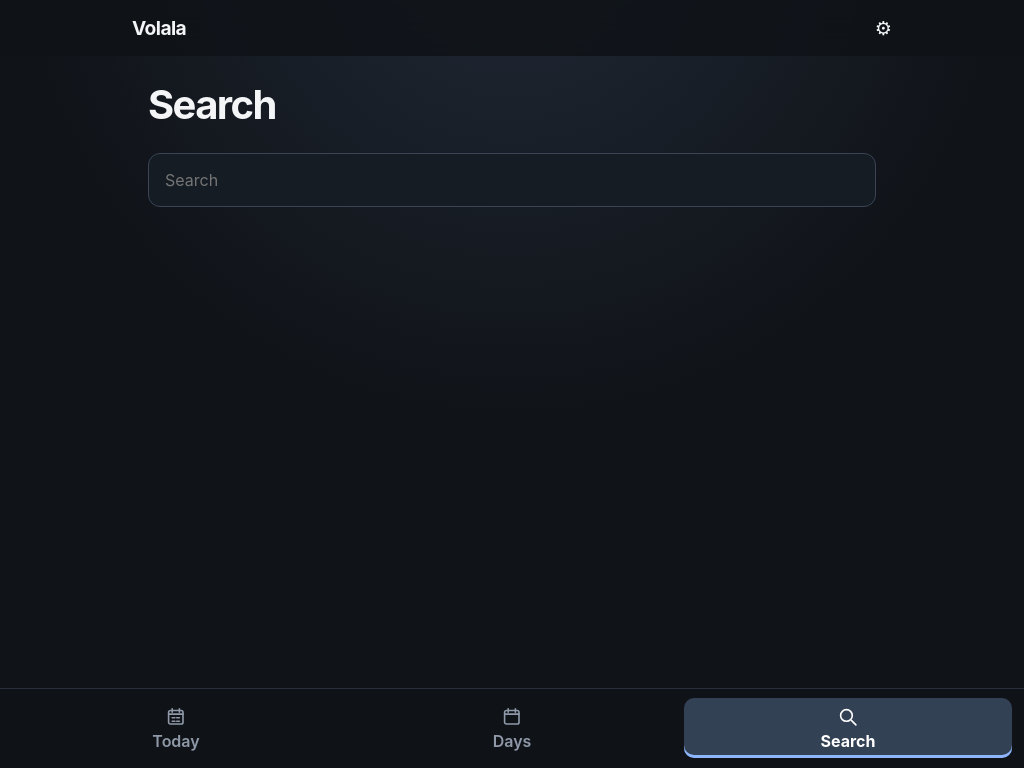
Test: day item presentation › shows the localized empty state for a search with no matches
This screenshot has width=1024, height=768.
Type "no matching itinerary content" into the field at (512, 180), box left=148, top=153, right=876, bottom=207
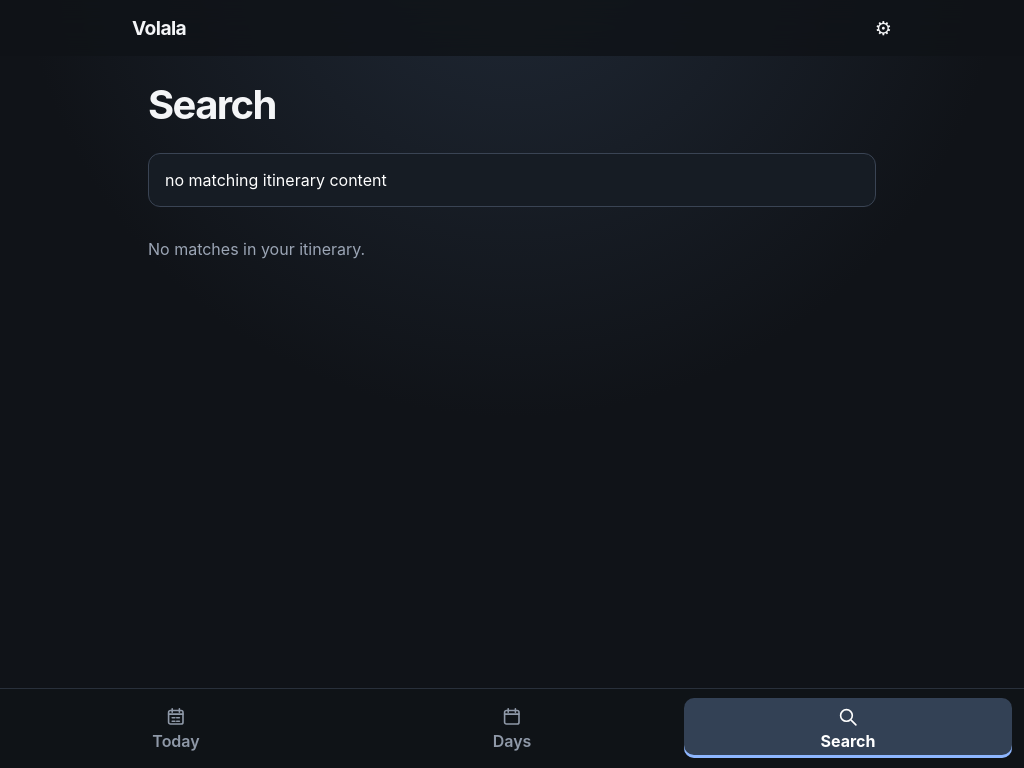
Expected: the text "No matches in your itinerary." is shown, left=148, top=239, right=365, bottom=259
